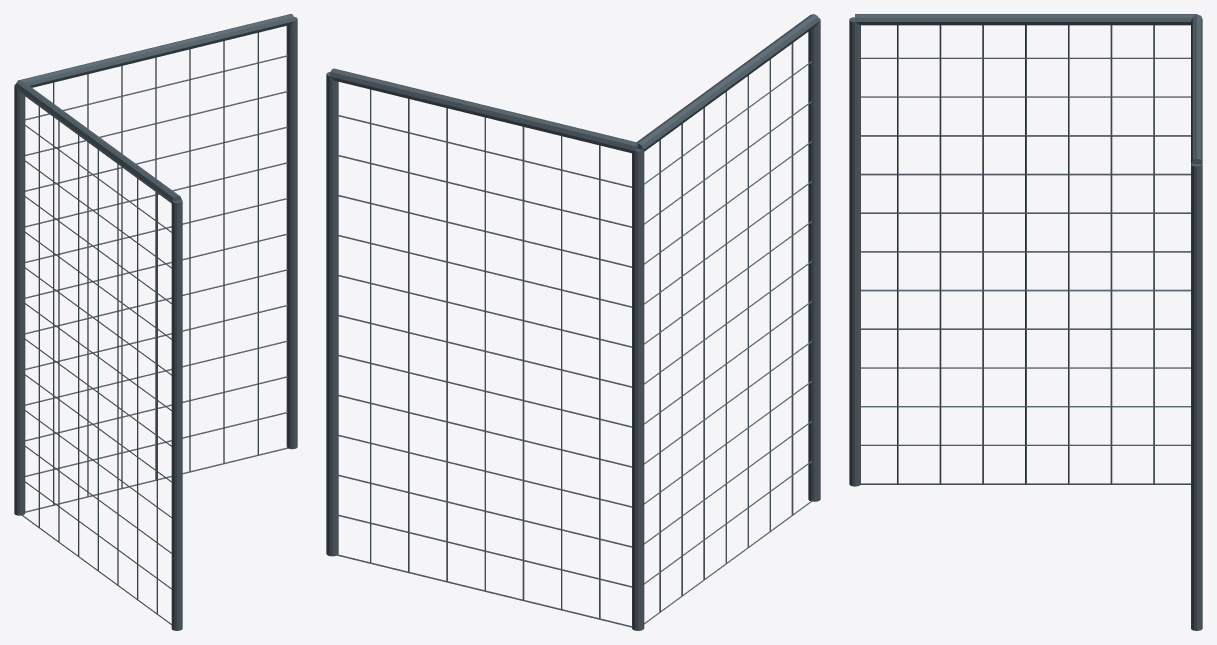
File: fence-corner-08b3bc2b.glb
3 renders of one model, left to right at view 1: azimuth 30°, elevation 25°; view 2: azimuth 150°, elevation 25°; view 3: azimuth 270°, elevation 25°, orthographic. The views are drawn at different scales.
Visible parts, largest first — view 1: fence-corner; view 2: fence-corner; view 3: fence-corner.
Part boxes in pixels (left/top/right/bottom): fence-corner: left=14, top=14, right=297, bottom=630; fence-corner: left=326, top=14, right=820, bottom=630; fence-corner: left=849, top=14, right=1202, bottom=630.
Bounding box in the file's own units: 2.07 × 3.04 × 2.07.
